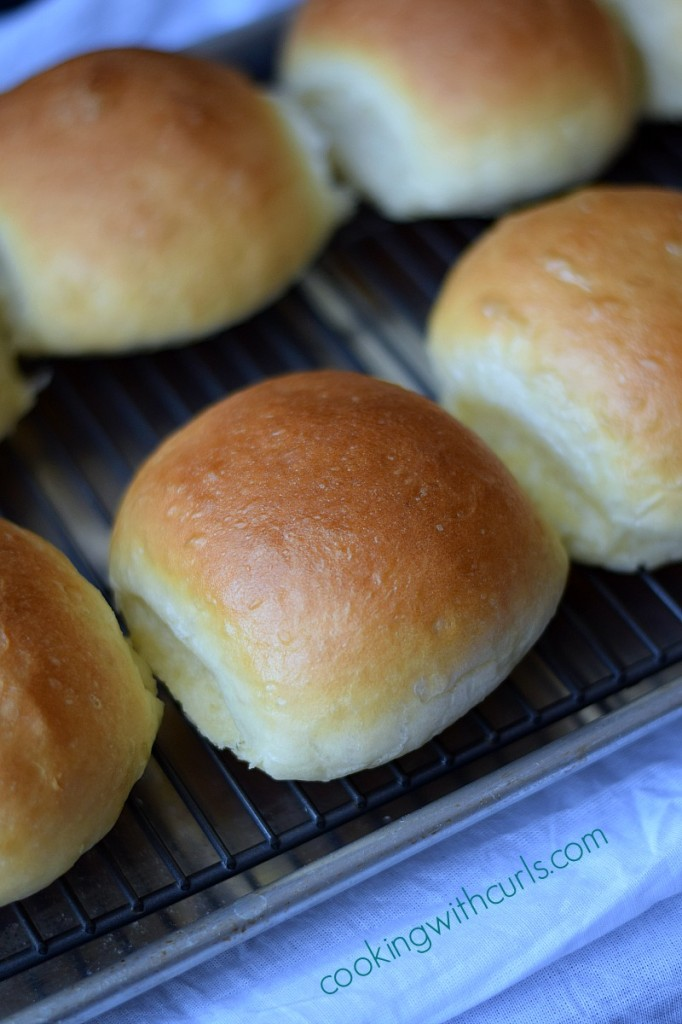hamburger_buns: (93, 365, 518, 788), (425, 216, 682, 557)
